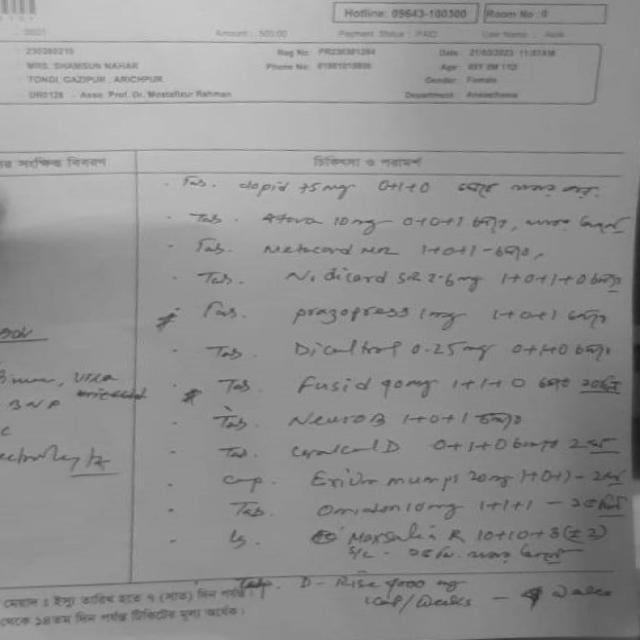medicine: (301, 468, 464, 494), (253, 241, 398, 266), (284, 402, 393, 434), (290, 439, 404, 464), (282, 300, 419, 320), (301, 498, 404, 524), (288, 371, 376, 396), (250, 208, 334, 230), (233, 174, 295, 199)
